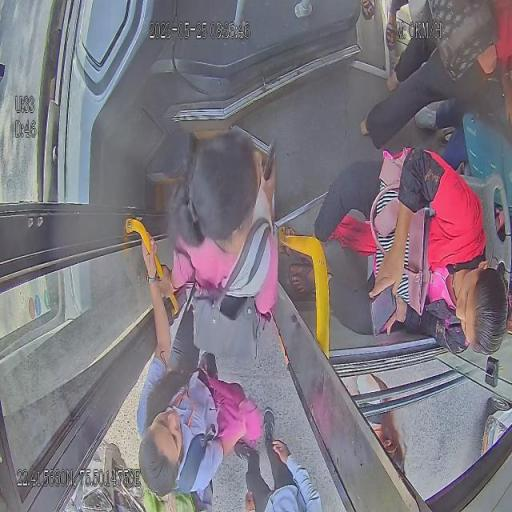persona: (280, 145, 509, 358), (136, 229, 256, 507), (154, 126, 280, 372), (360, 0, 512, 155), (234, 409, 322, 511)
